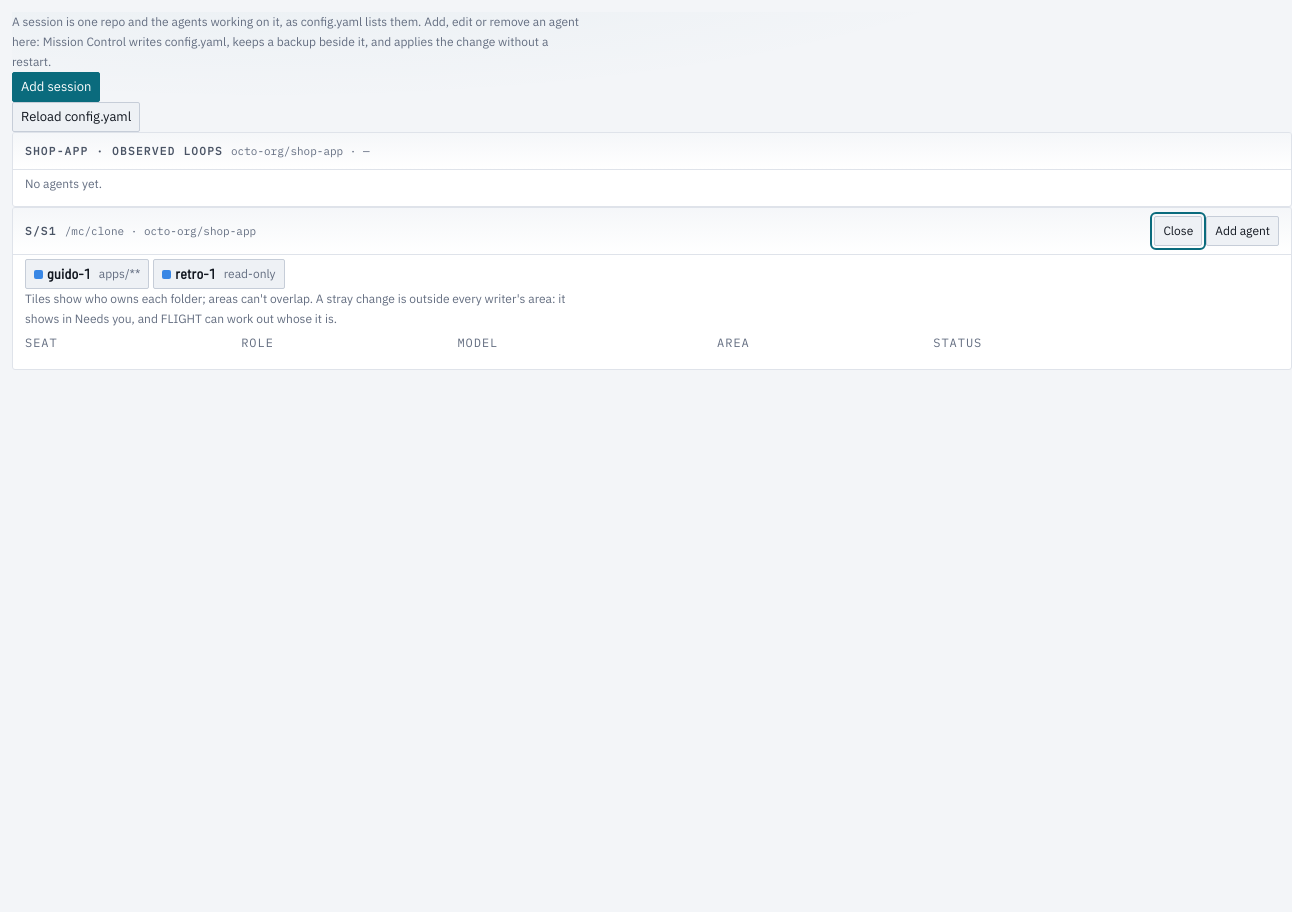
Scenario: reports unmanaged and resets the closed selection
Click the button "Close": (1178, 231) x1=1154 y1=216 x2=1202 y2=246
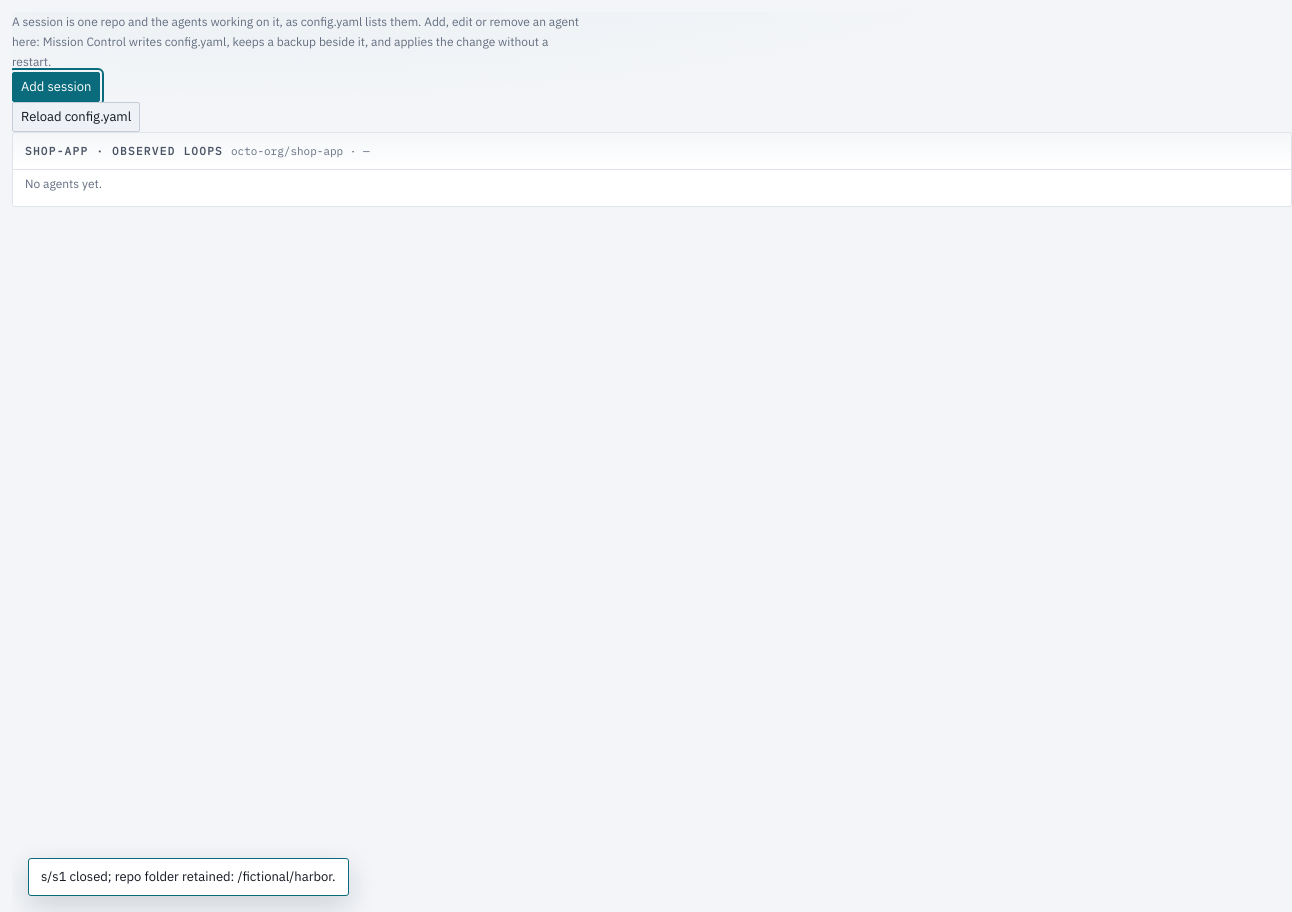
Result: the text "s/s1 closed; repo folder retained: /fictional/harbor." is shown at x1=28 y1=858 x2=348 y2=896
